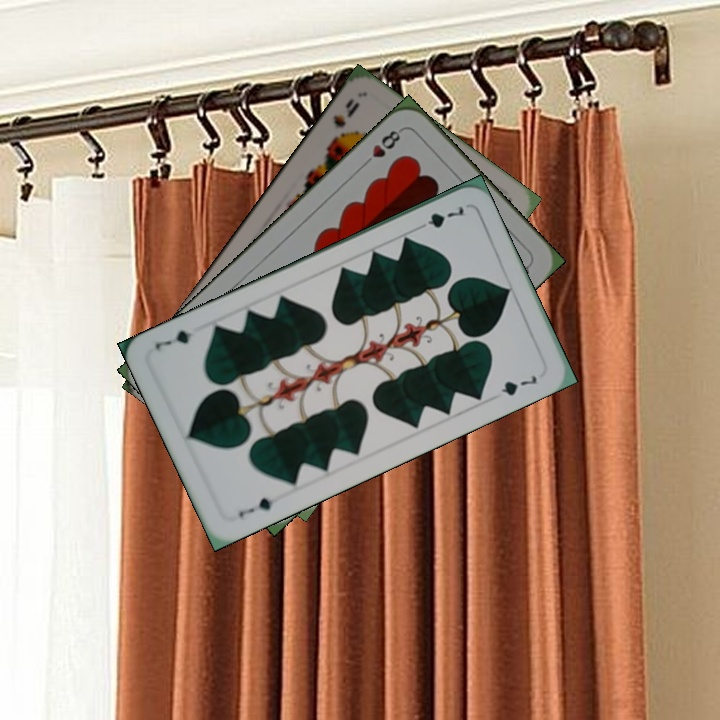G7: (412, 202, 467, 233), (234, 493, 283, 520)
H8: (358, 125, 405, 170)
S9: (325, 93, 363, 147)
